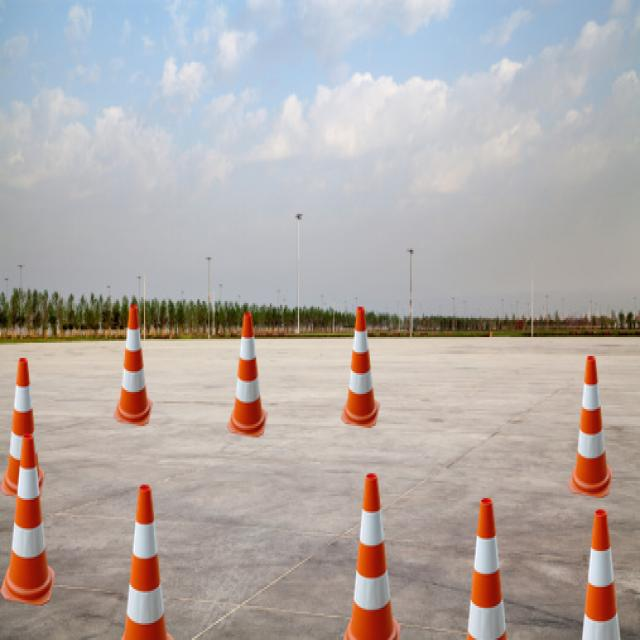large_orange_cone: (341, 473, 401, 640), (113, 484, 175, 640), (0, 434, 56, 606), (454, 498, 518, 640), (568, 509, 632, 640), (568, 356, 614, 498), (0, 358, 45, 500), (227, 312, 268, 438), (341, 307, 380, 428), (114, 305, 152, 426)
